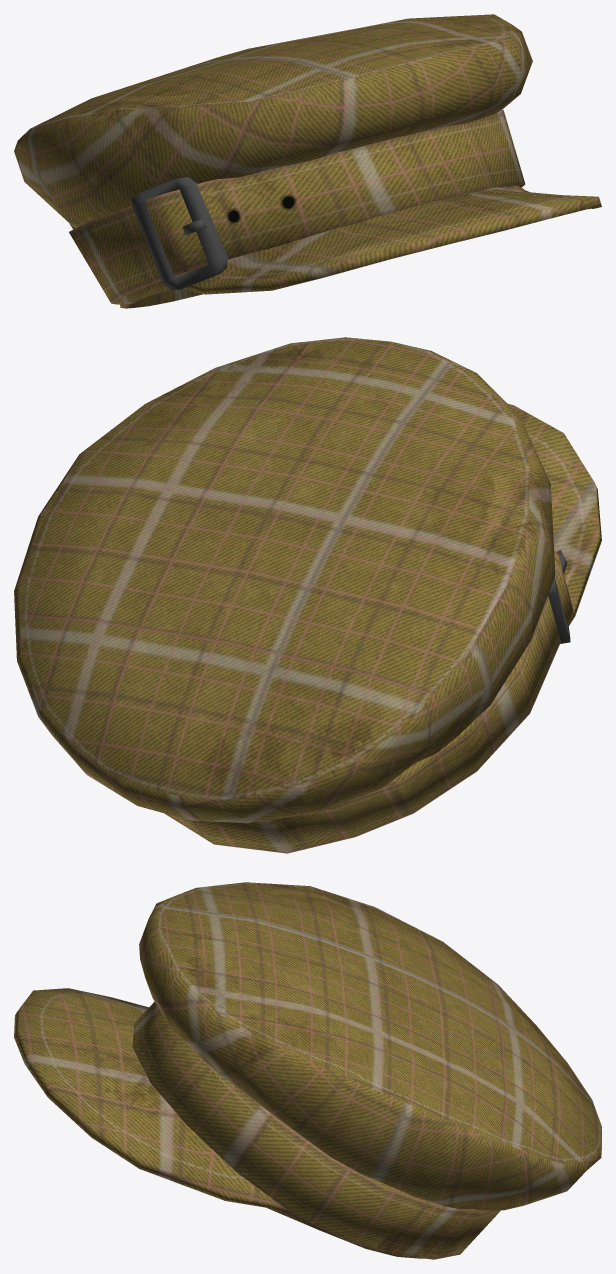
The model's file is SCP268Pickup.fbx.
The picture shows the model from 3 angles, top to bottom: view 1: azimuth 30°, elevation 25°; view 2: azimuth 150°, elevation 25°; view 3: azimuth 270°, elevation 25°; orthographic projection. The views are drawn at different scales.
Visible parts, largest first — view 1: Hat; view 2: Hat; view 3: Hat.
Part boxes in pixels (x1,y1,x2,y2): Hat: [14, 14, 601, 308]; Hat: [14, 337, 601, 853]; Hat: [14, 882, 601, 1259].
Size of the model in its own units: 0.4356 by 0.3311 by 0.5617.
Materials: 1 (1 with a texture image).
